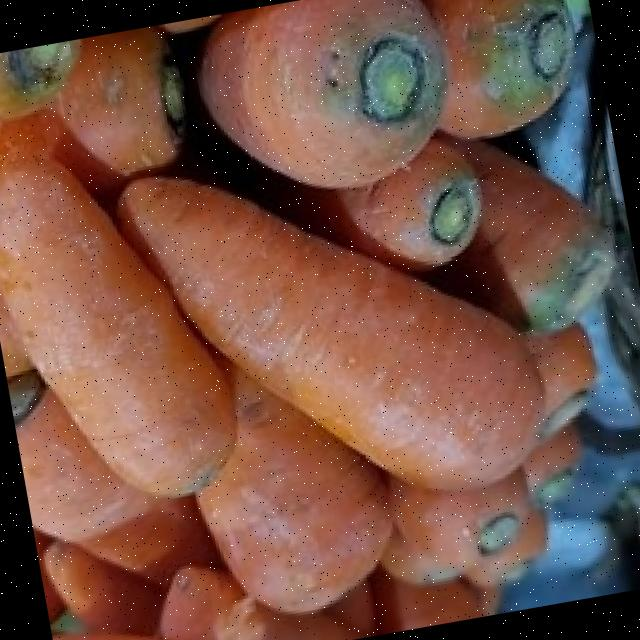carrot: (0, 0, 597, 640), (125, 182, 546, 491)
